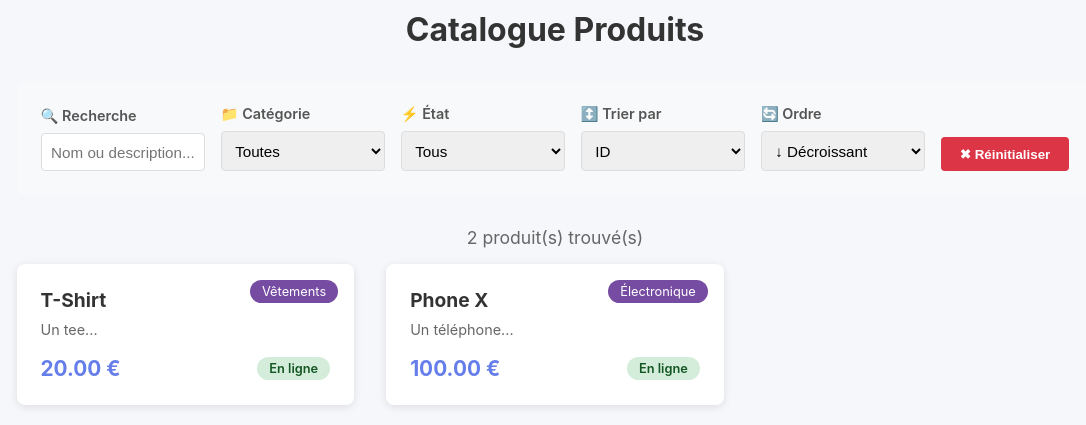
Catalogue par catégorie › affiche les produits lorsqu'on sélectionne une catégorie
Expected: the heading "Phone X" is shown, [410, 288, 488, 312]
Expected: the heading "T-Shirt" is shown, [40, 288, 106, 312]
Select "Électronique" in the dropdown labelled "📁 Catégorie" at (302, 151), box [220, 131, 384, 171]
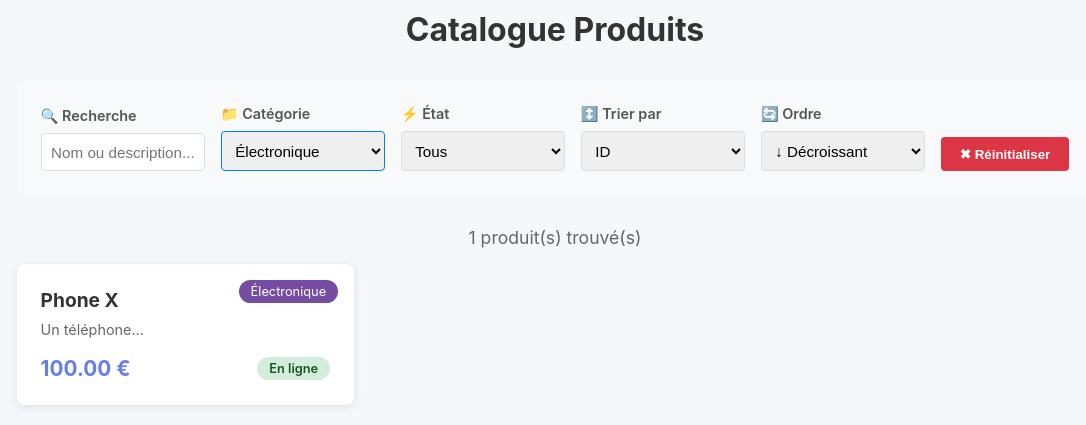
Expected: the heading "Phone X" is shown, [40, 288, 119, 312]
Result: the link "T-Shirt" is gone
